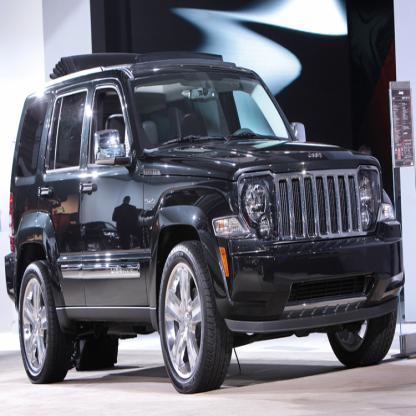Vehicle: (4, 49, 406, 398)
